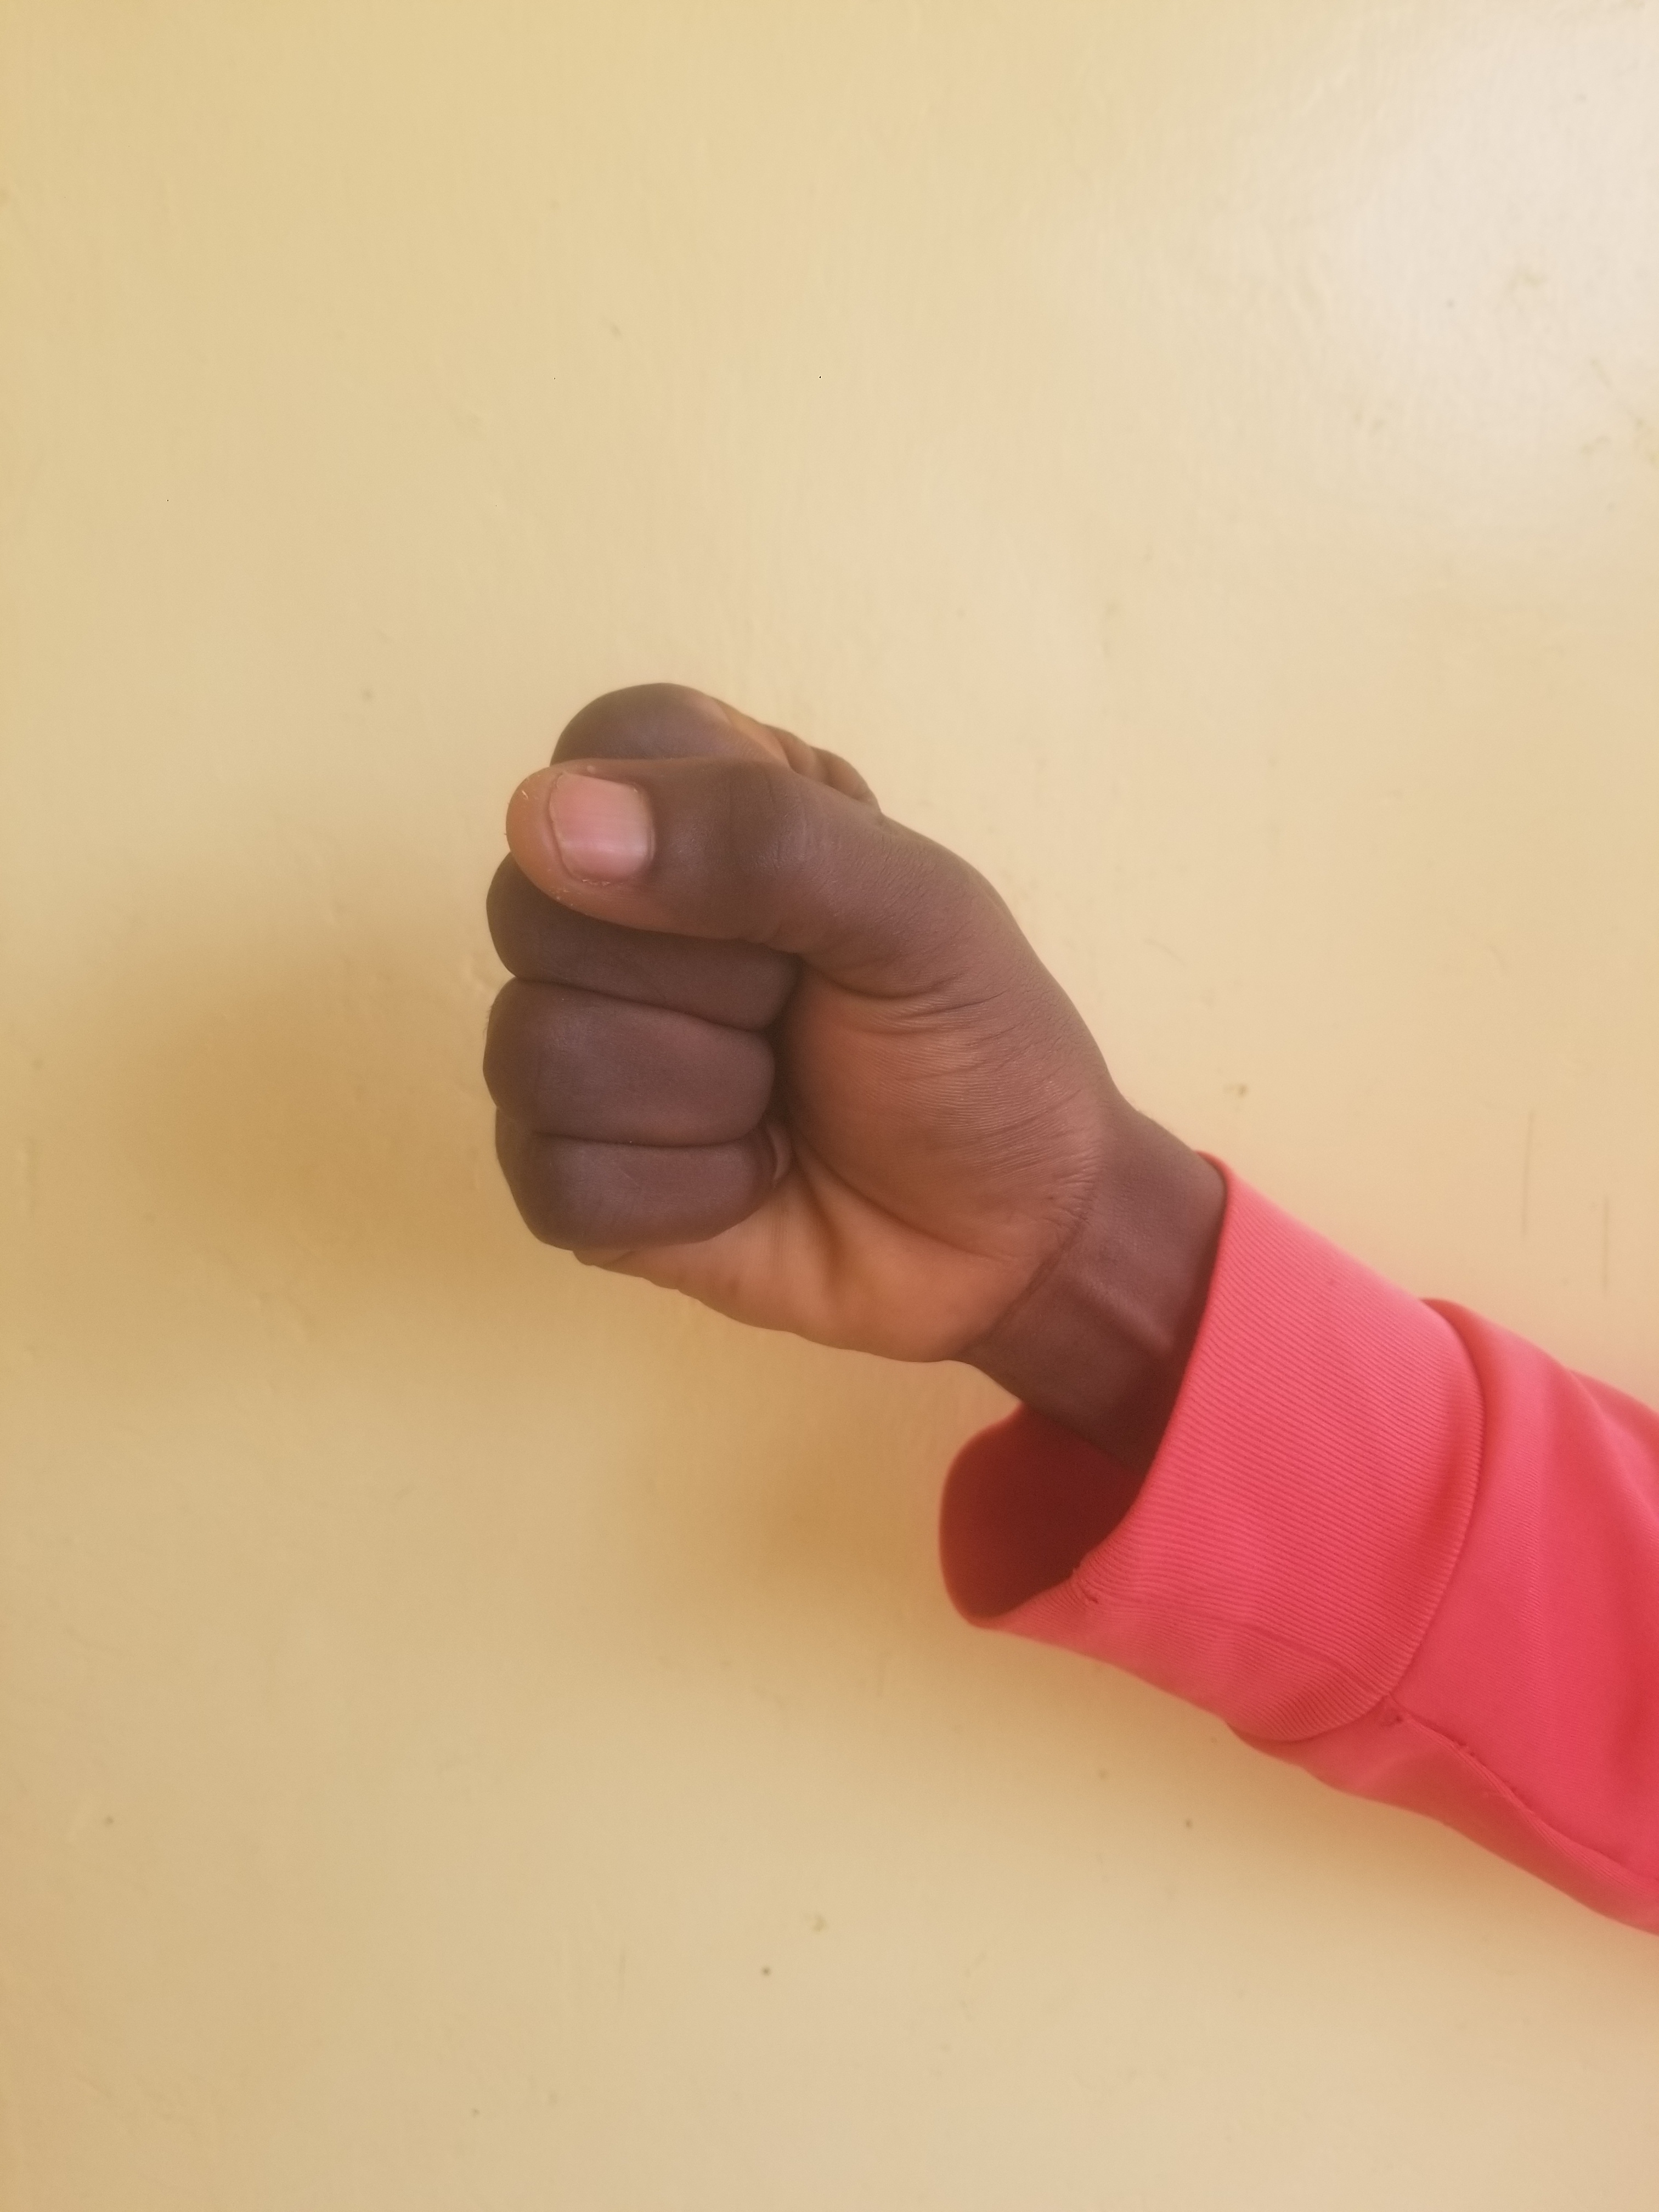fist: (345, 366, 1230, 1714)
